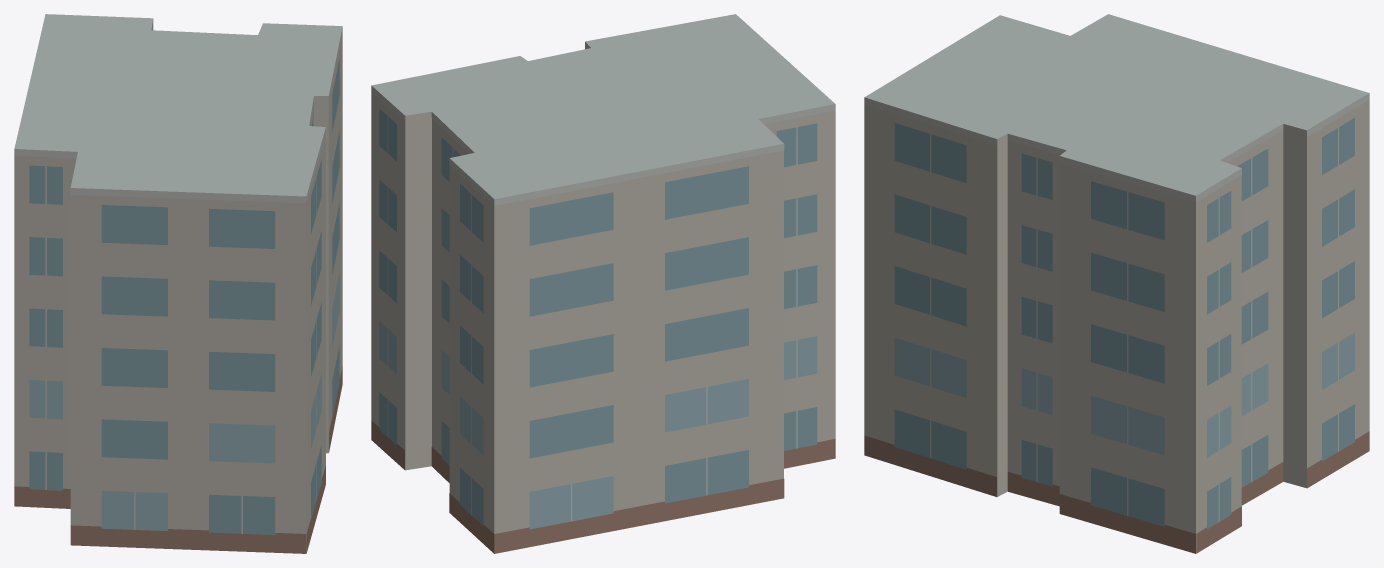
File: survey-upis-32557283.glb
3 renders of one model, left to right at view 1: azimuth 30°, elevation 25°; view 2: azimuth 150°, elevation 25°; view 3: azimuth 270°, elevation 25°, orthographic.
Parts seen in each view (by area): view 1: survey-upis-32557283.tmp; view 2: survey-upis-32557283.tmp; view 3: survey-upis-32557283.tmp.
Part boxes in pixels (x1=…): survey-upis-32557283.tmp: x1=14, y1=14, x2=342, y2=553; survey-upis-32557283.tmp: x1=371, y1=14, x2=835, y2=553; survey-upis-32557283.tmp: x1=864, y1=14, x2=1369, y2=553.
Bounding box in the file's own units: 14.23 × 13.05 × 16.7.
